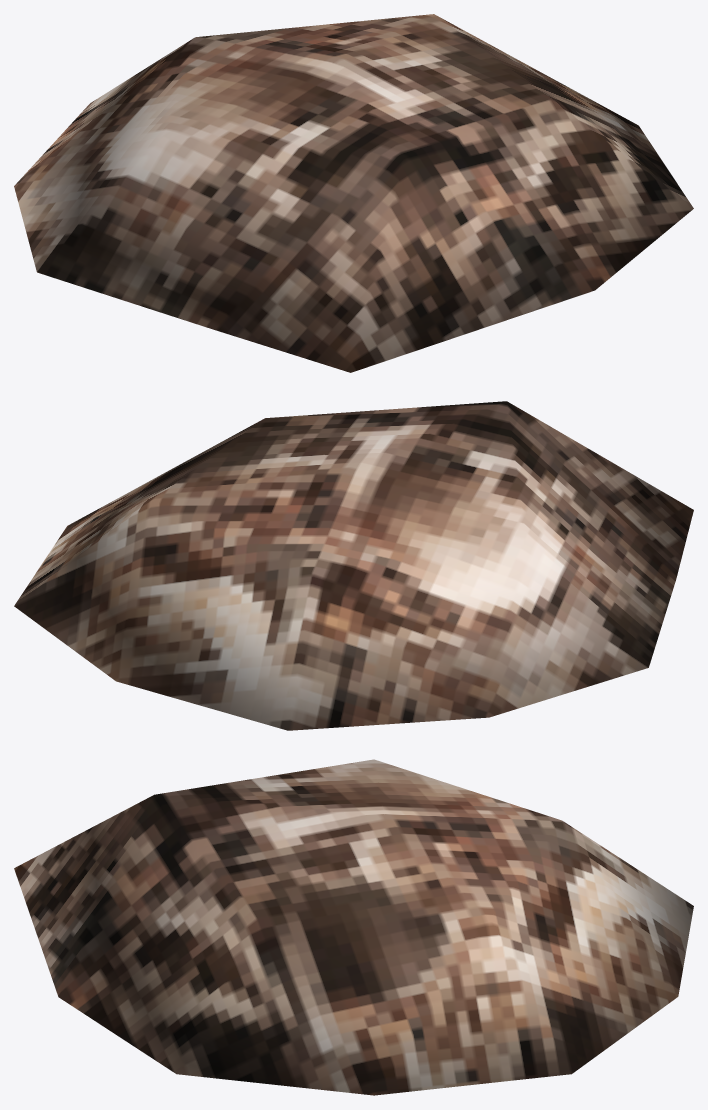
The model's file is Bones_3.fbx.
The picture shows the model from 3 angles, top to bottom: view 1: azimuth 30°, elevation 25°; view 2: azimuth 150°, elevation 25°; view 3: azimuth 270°, elevation 25°; orthographic projection. The views are drawn at different scales.
Visible parts, largest first — view 1: Icosphere.003; view 2: Icosphere.003; view 3: Icosphere.003.
Boxes of the visible parts, x1,y1,x2,y2 form: Icosphere.003: (14, 14, 693, 372); Icosphere.003: (14, 401, 693, 730); Icosphere.003: (14, 759, 693, 1095).
Size of the model in its own units: 245 by 53 by 240.
